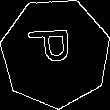P_E: (30, 33, 82, 73)
